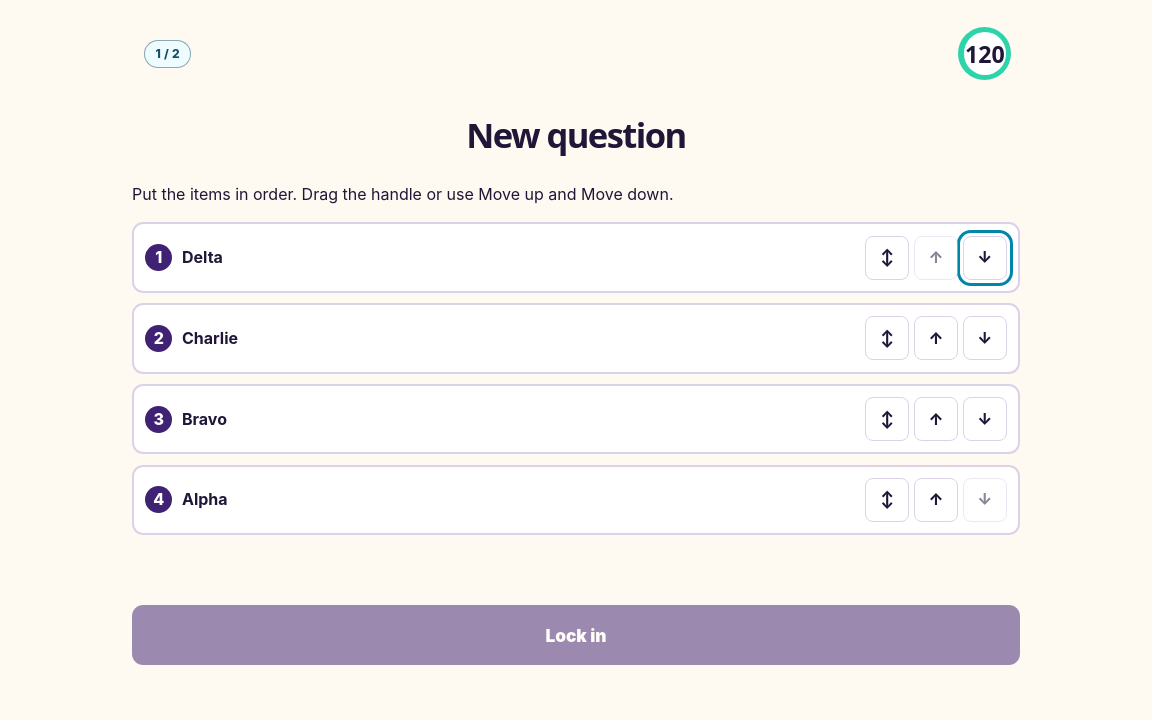
Test: Ordering and Matching player controls › starts unchosen, submits an explicit keyboard permutation and locks afterwards
Expected: the button "Lock in" is disabled, [132,605,1020,665]
Press Enter
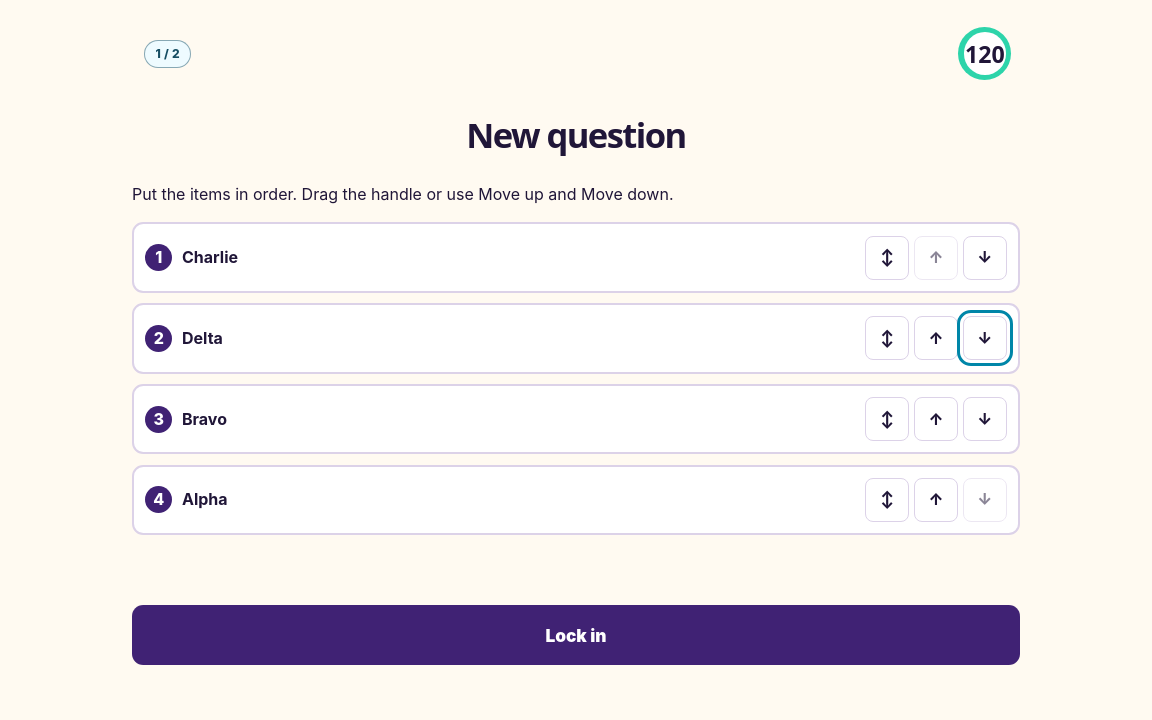
Result: the button "Lock in" is enabled
Click the button "Lock in".
click(576, 635)  # box [132,605,1020,665]
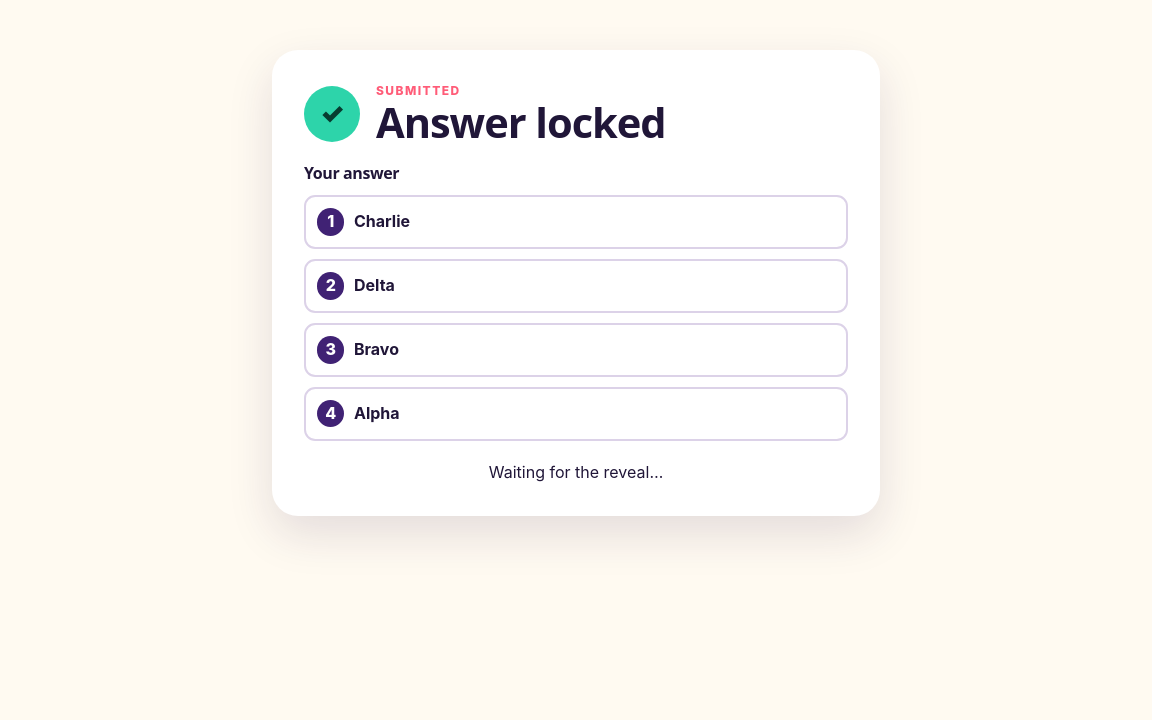
Result: the heading "Answer locked" is shown at [376,100,666,145]
